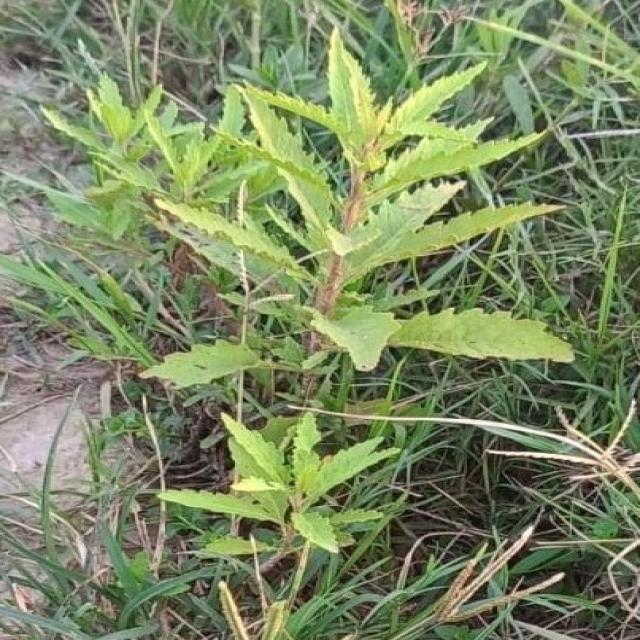weed: (2, 0, 640, 639)
